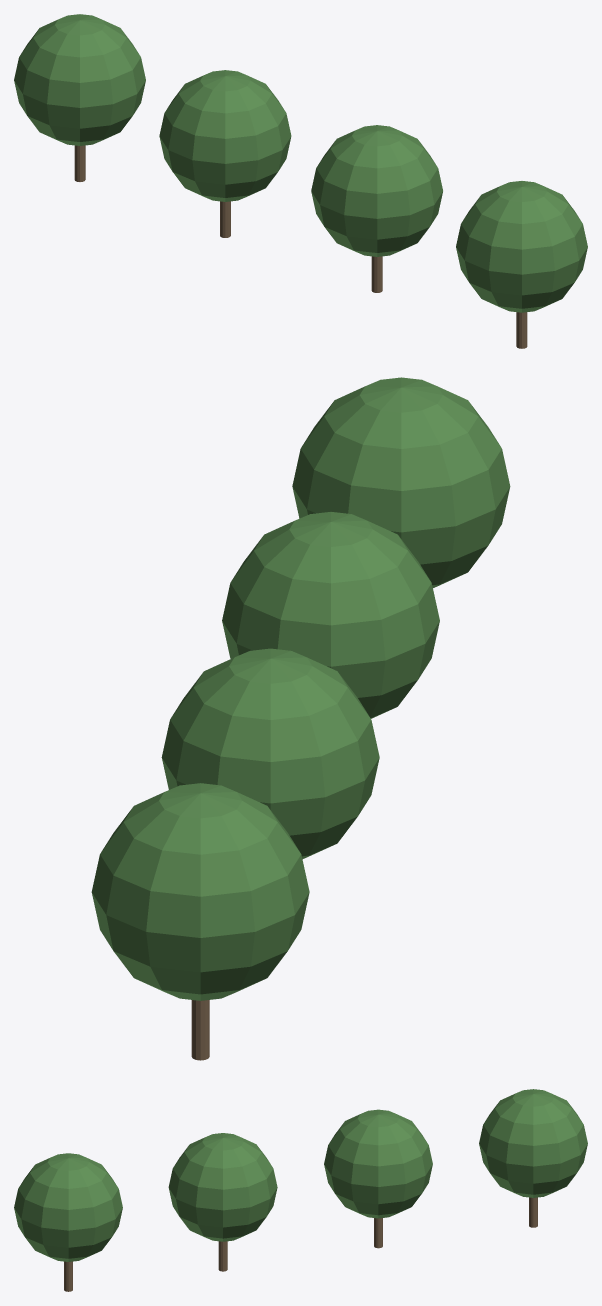
File: trees-665-12977-1ced080ee919.glb
The picture shows the model from 3 angles, top to bottom: view 1: azimuth 30°, elevation 25°; view 2: azimuth 150°, elevation 25°; view 3: azimuth 270°, elevation 25°; orthographic projection. The views are drawn at different scales.
Size of the model in its own units: 28.8 by 16.05 by 63.19.
